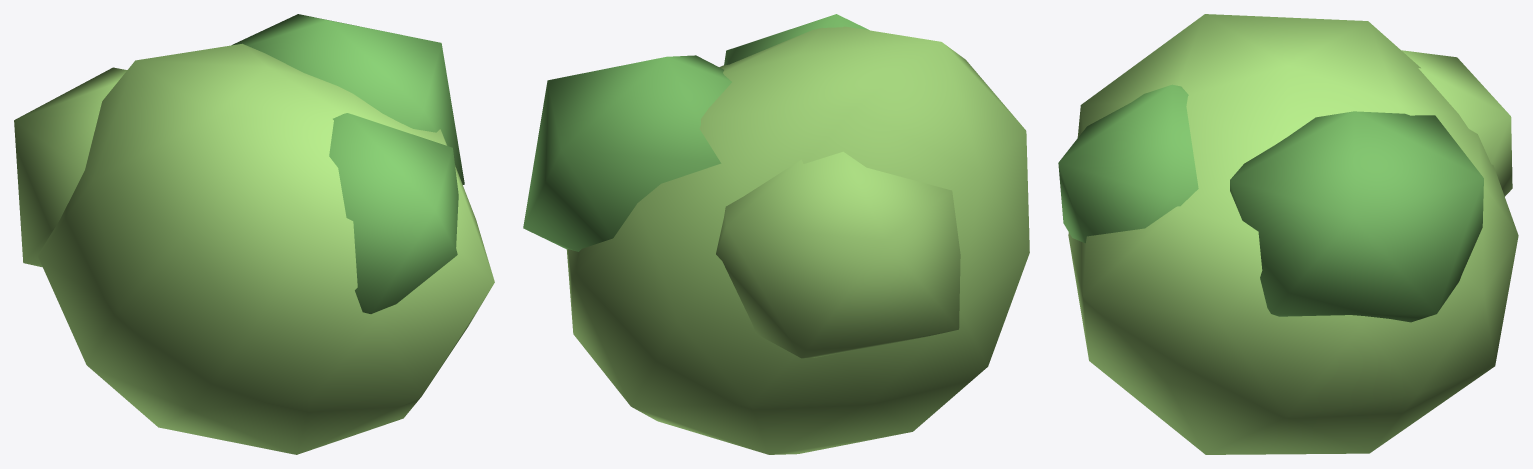
Rendered from bush_small.glb.
3 views of the same model, side by side, from view 1: azimuth 30°, elevation 25°; view 2: azimuth 150°, elevation 25°; view 3: azimuth 270°, elevation 25° (orthographic). The views are drawn at different scales.
Parts seen in each view (by area): view 1: bushs_shrub_light, bushs_shrub_green; view 2: bushs_shrub_light, bushs_shrub_green; view 3: bushs_shrub_light, bushs_shrub_green.
Part boxes in pixels (bbox=[...]): bushs_shrub_light: bbox=[14, 43, 494, 454]; bushs_shrub_green: bbox=[232, 14, 464, 313]; bushs_shrub_light: bbox=[566, 26, 1029, 454]; bushs_shrub_green: bbox=[523, 14, 869, 251]; bushs_shrub_light: bbox=[1068, 14, 1518, 454]; bushs_shrub_green: bbox=[1058, 84, 1483, 322].
Size of the model in its own units: 2 by 1.82 by 1.97.
